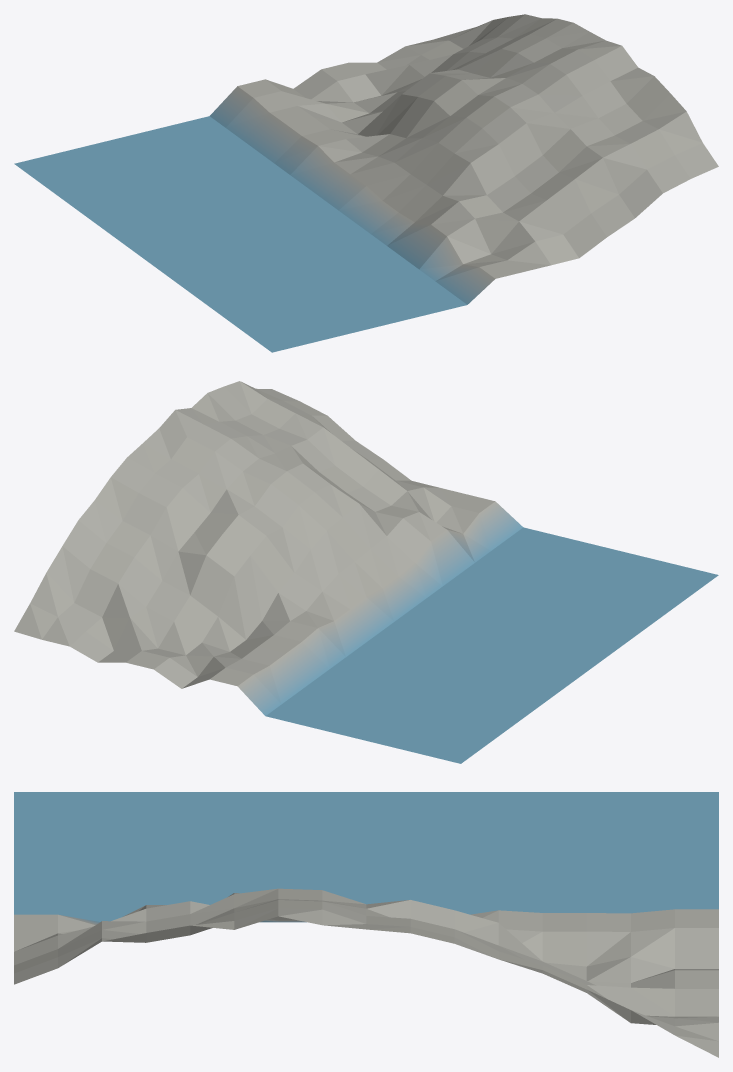
3 views of the same model, one above another, from view 1: azimuth 30°, elevation 25°; view 2: azimuth 150°, elevation 25°; view 3: azimuth 270°, elevation 25° (orthographic). The views are drawn at different scales.
Bounding box in the file's own units: 32 × 8.69 × 32.
